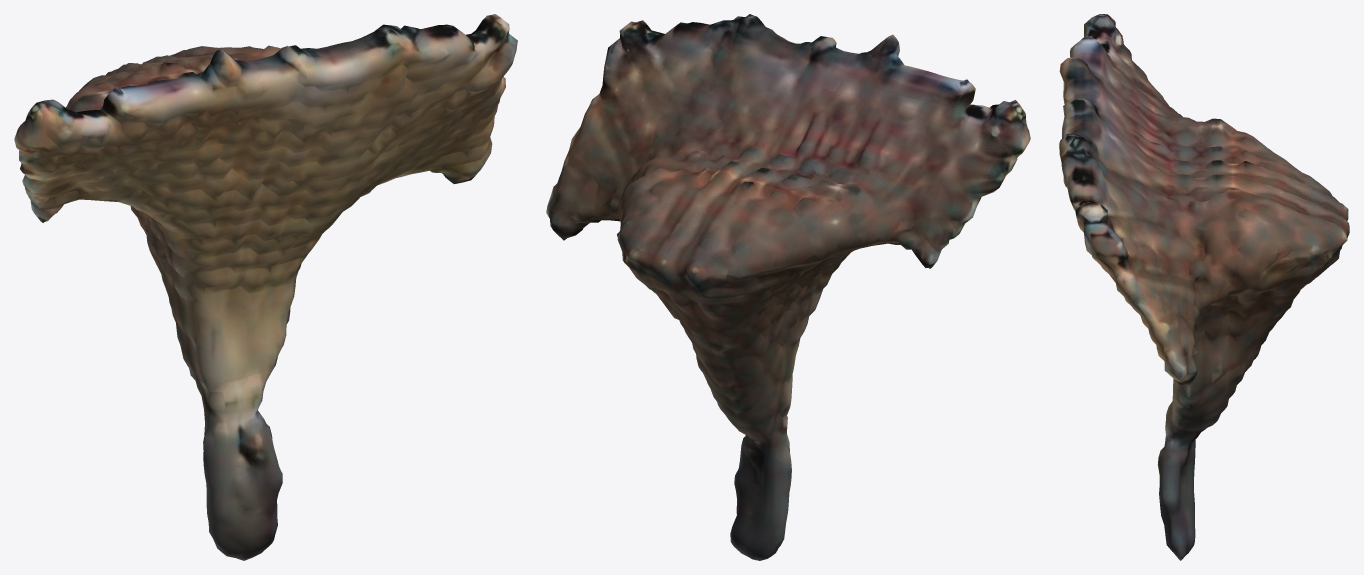
The model's file is cantharellus-cibarius.glb.
3 renders of one model, left to right at view 1: azimuth 30°, elevation 25°; view 2: azimuth 150°, elevation 25°; view 3: azimuth 270°, elevation 25°, orthographic. The views are drawn at different scales.
Bounding box in the file's own units: 0.807 × 0.8703 × 0.4915.
Materials: 1 (1 with a texture image).
